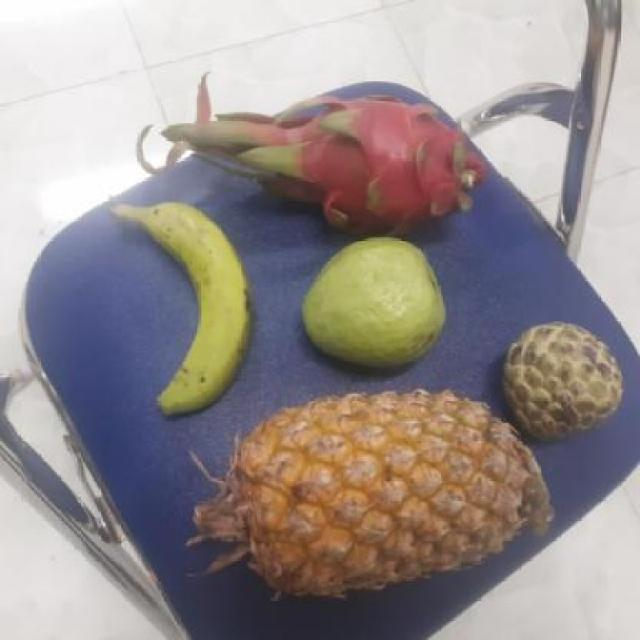banana: (124, 202, 251, 409)
dragon fruit: (286, 95, 472, 236)
guava: (298, 239, 444, 367)
pineapple: (192, 393, 537, 587)
sugar apple: (493, 323, 622, 442)
